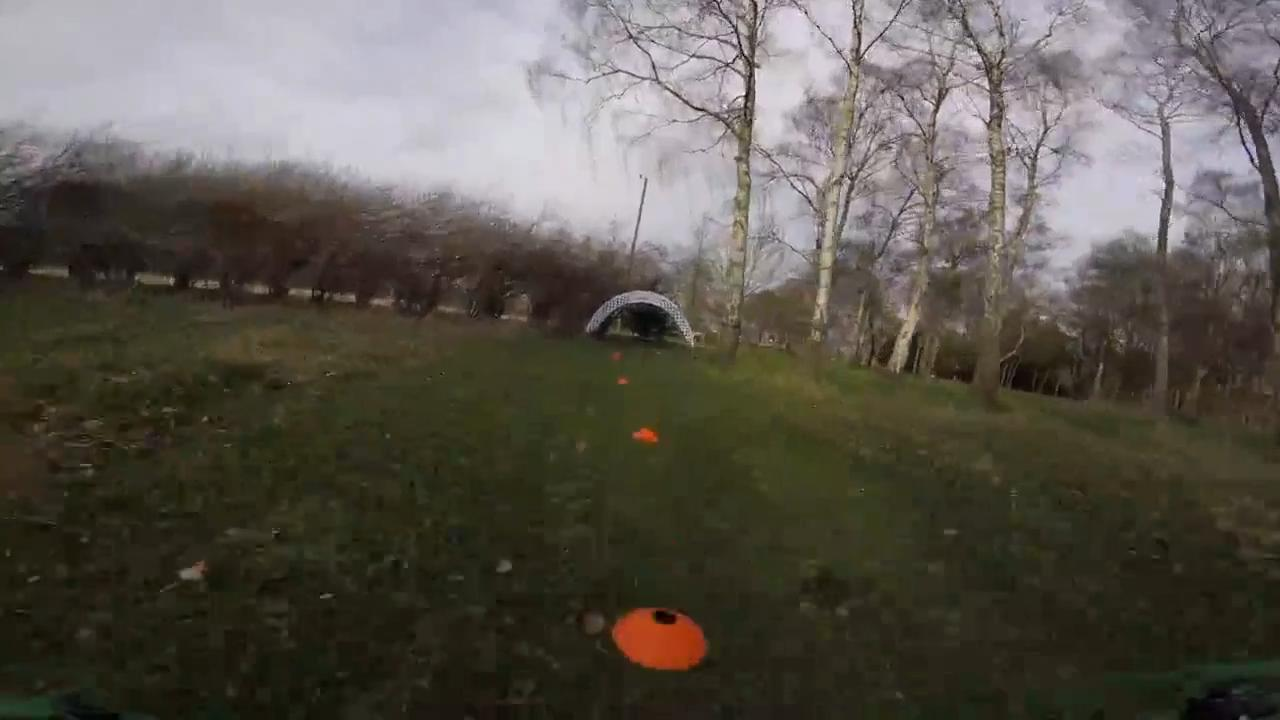gate: (585, 291, 697, 353)
